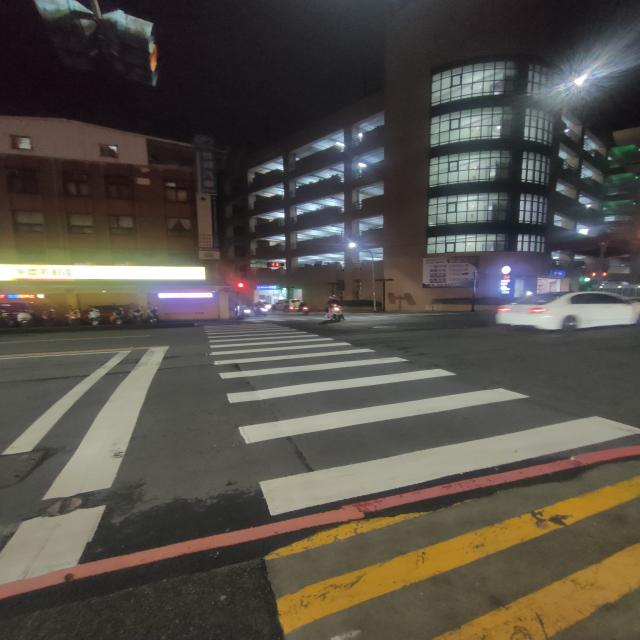zebra_crossing: (66, 63, 342, 586), (122, 158, 386, 480)
